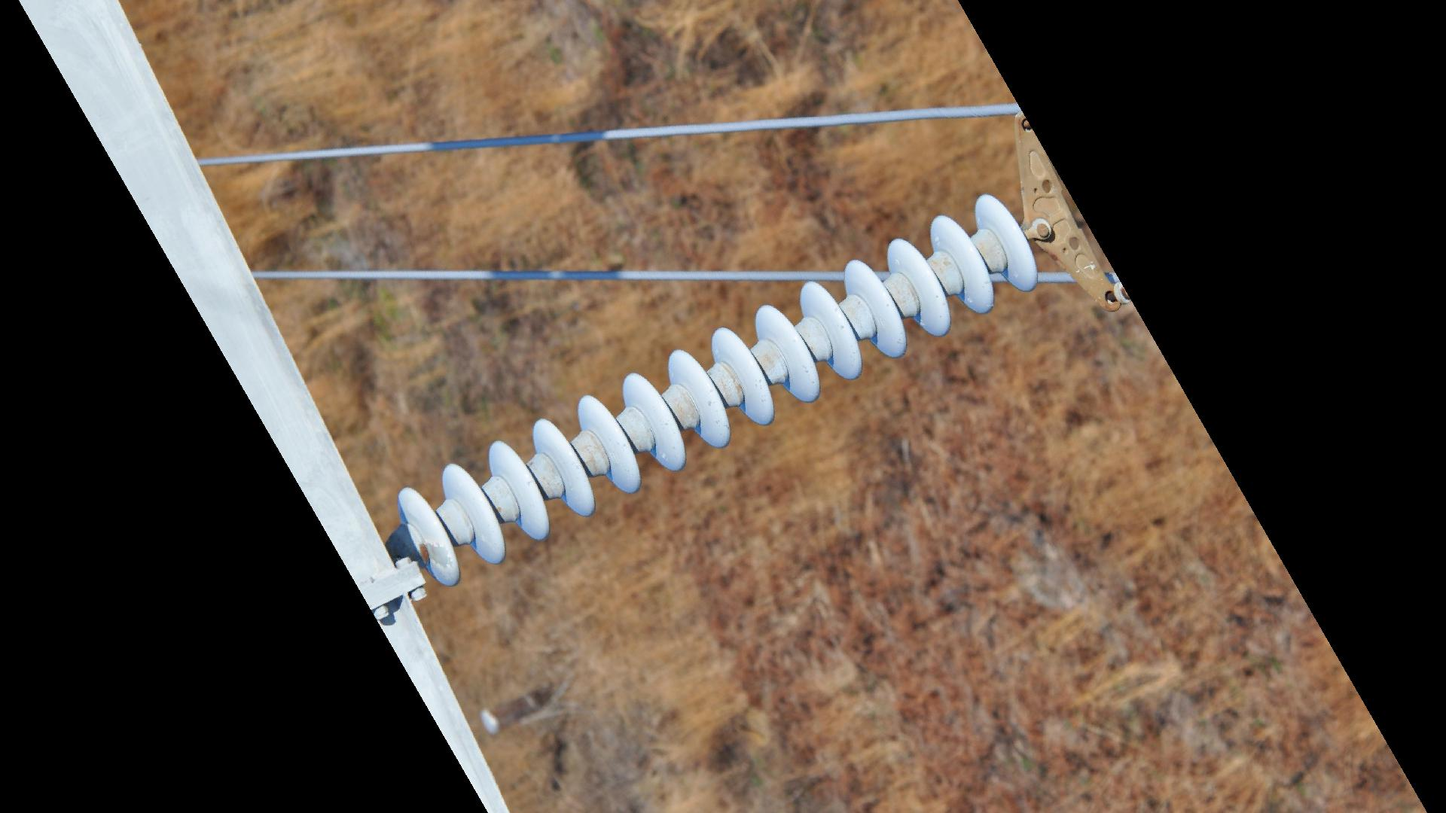insulator: (393, 190, 1042, 591)
insulator_flashover: (421, 537, 455, 570)
